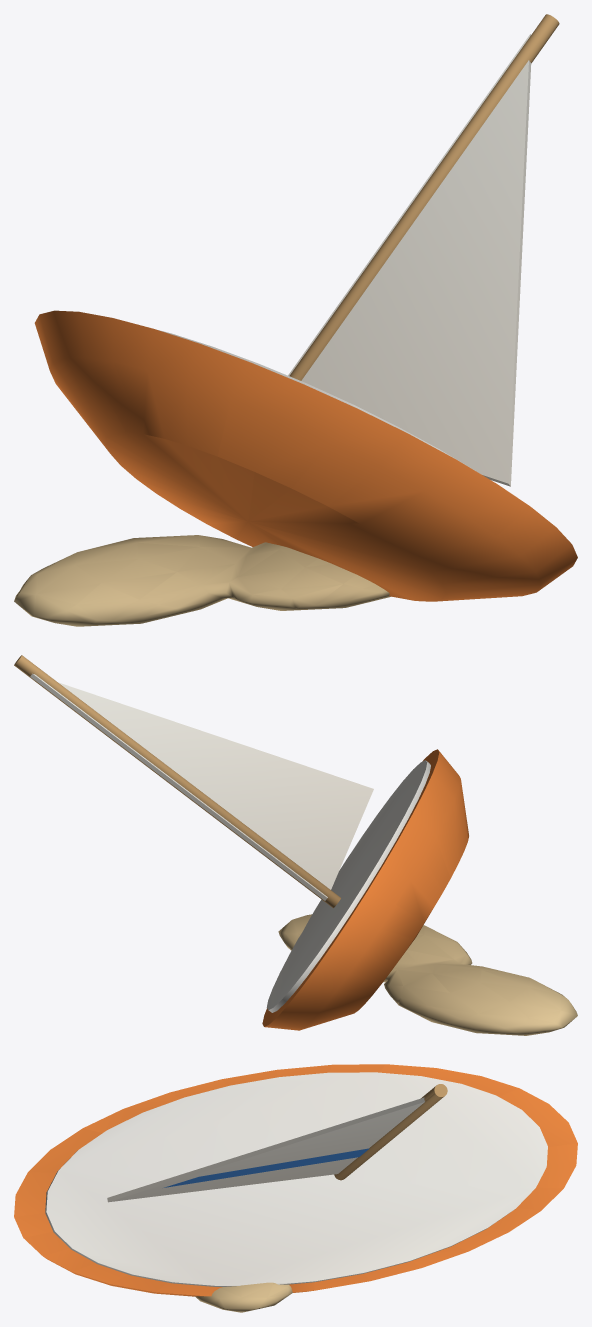
File: shore_toy_boat.glb
3 renders of one model, top to bottom at view 1: azimuth 30°, elevation 25°; view 2: azimuth 150°, elevation 25°; view 3: azimuth 270°, elevation 25°, orthographic. The views are drawn at different scales.
Parts seen in each view (by area): view 1: shore_toy_boat; view 2: shore_toy_boat; view 3: shore_toy_boat.
Boxes of the visible parts, left/top/right/bottom form: shore_toy_boat: left=14, top=14, right=577, bottom=626; shore_toy_boat: left=14, top=655, right=577, bottom=1035; shore_toy_boat: left=14, top=1064, right=577, bottom=1312.
Size of the model in its own units: 10.28 by 6.37 by 9.94.
